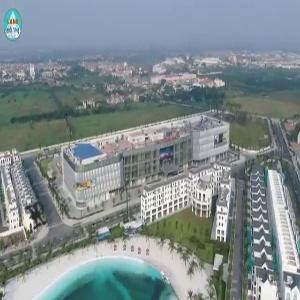drone: (4, 182, 70, 248)
